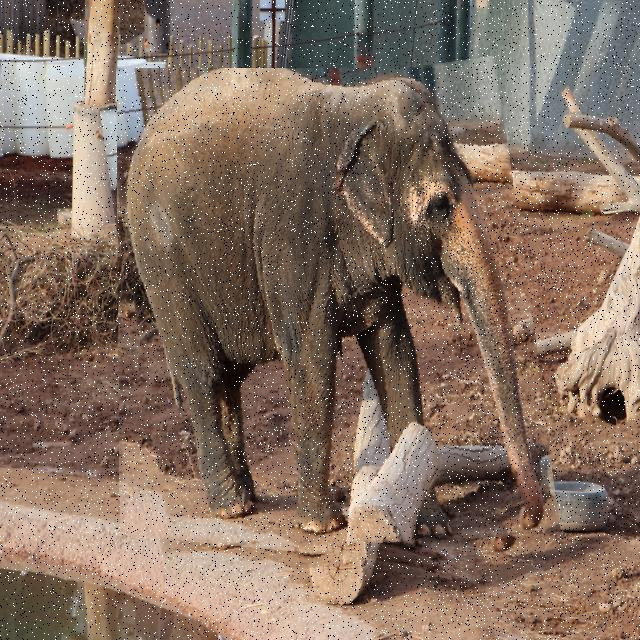elephant: (116, 68, 545, 576)
